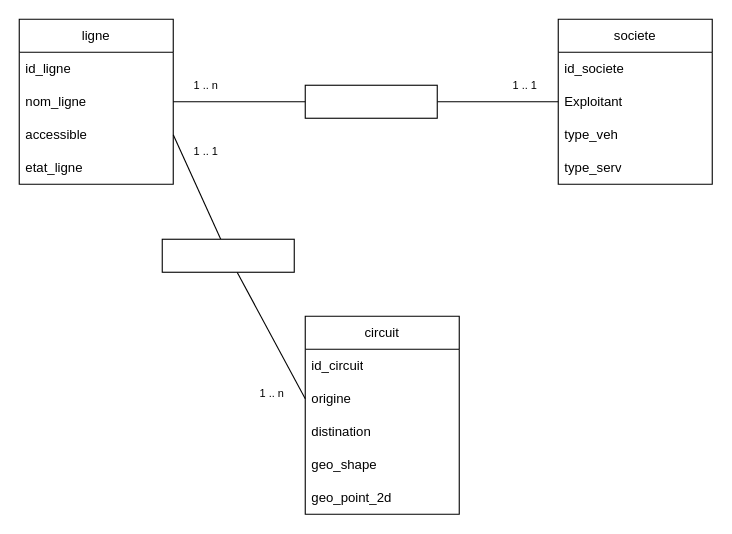
This 732x534 diagram has some shape labels left out. The shapes that lost their labels are listed below. From the top down, each one's centre as x and y in pixels, then its label:
pixel 370 101: fait
pixel 227 255: contien
